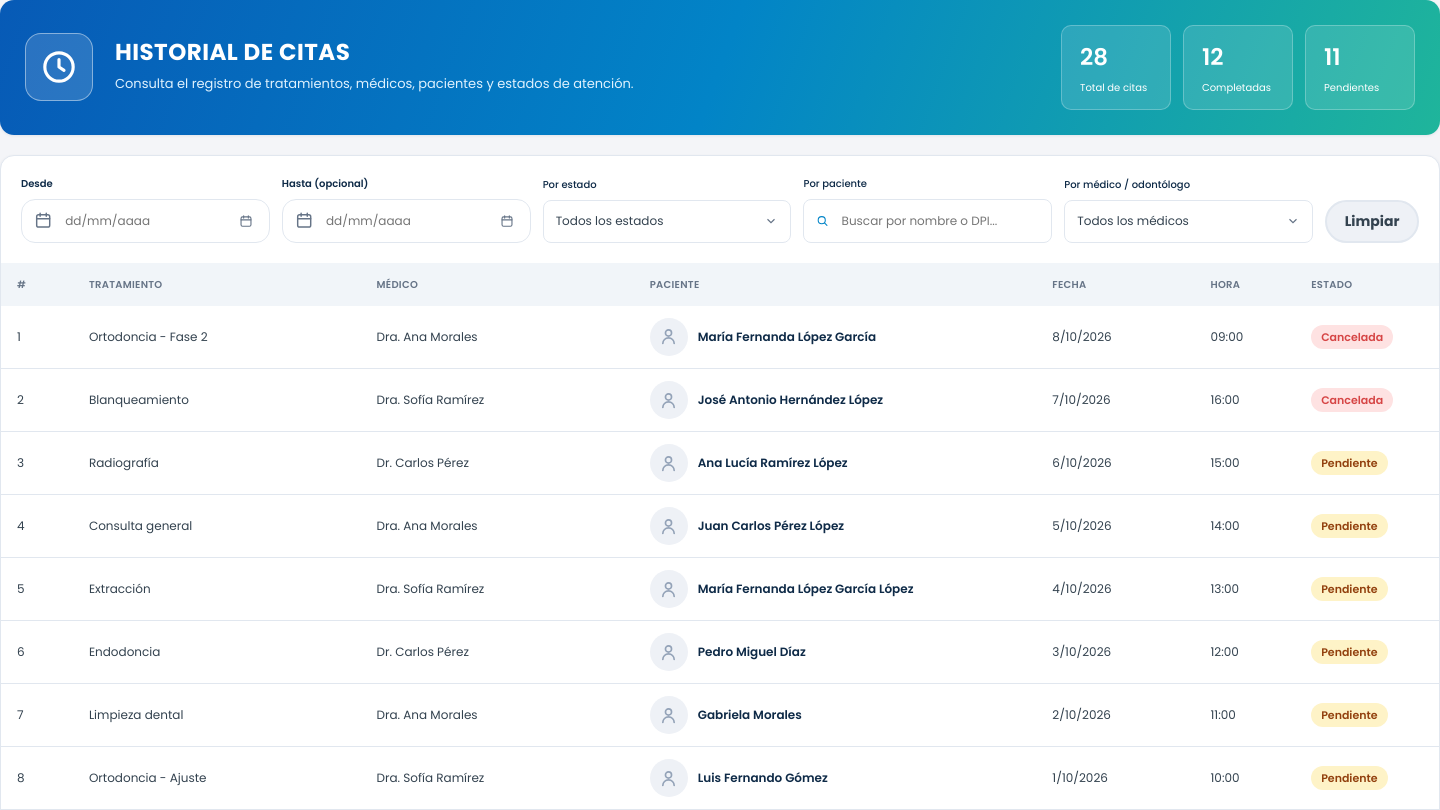
Scenario: agrega separadores al escribir o pegar en Desde sin cambiar el diseño
Type "31082026" into the field labelled "Desde".
click(110, 220); type("31082026")  # box [65, 200, 156, 242]
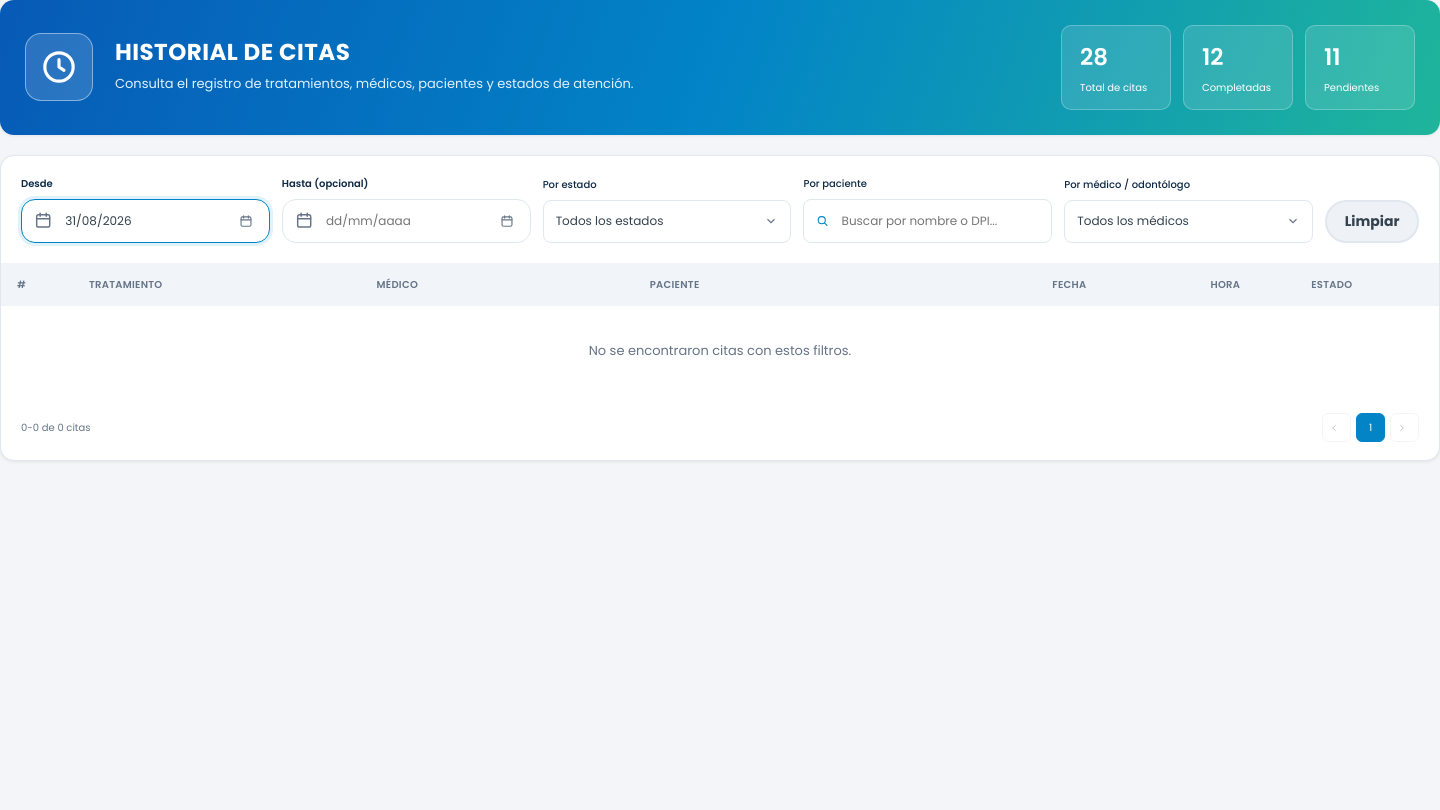
Now the field labelled "Desde" holds "31/08/2026", box [65, 200, 156, 242]
Press Backspace
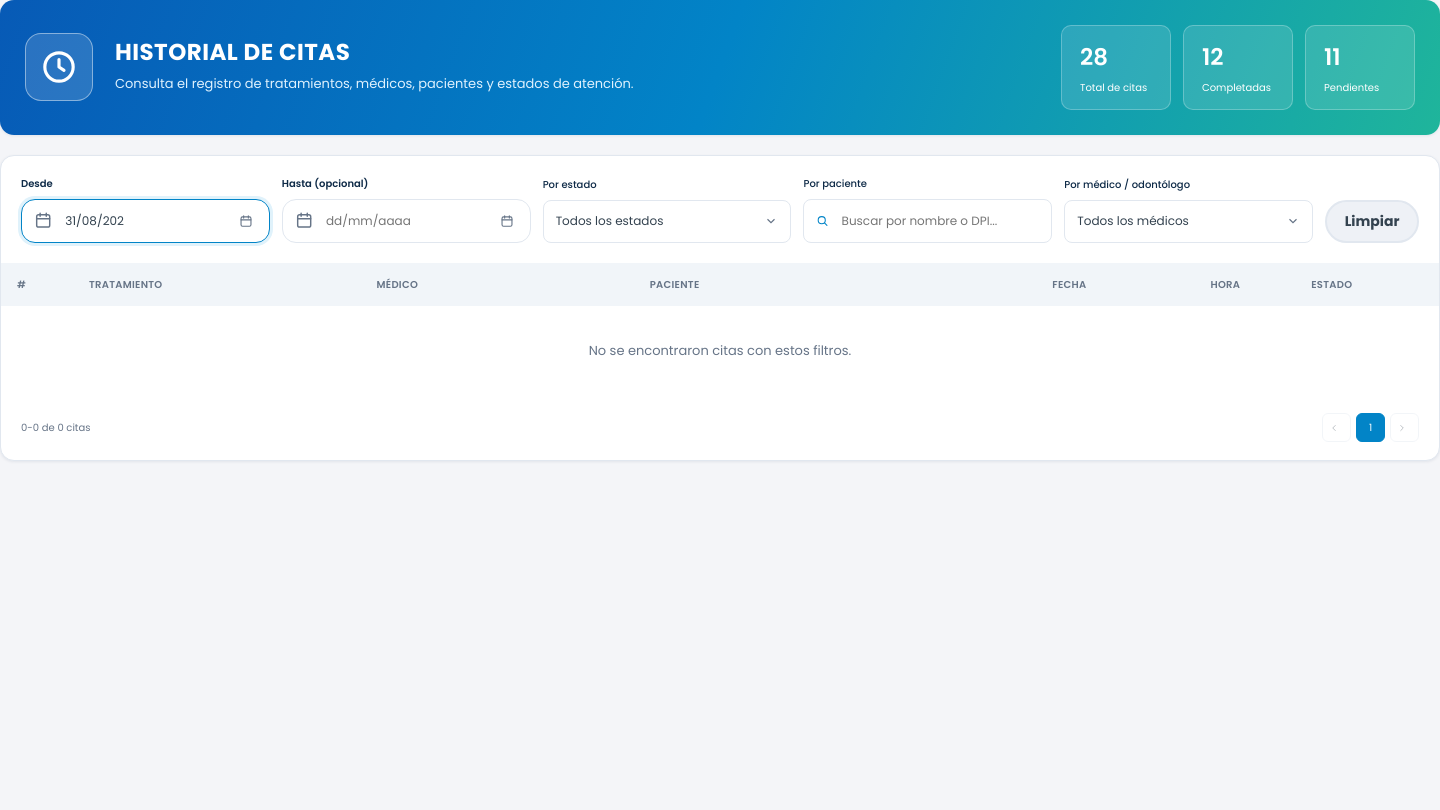
Now the field labelled "Desde" holds "31/08/202", box [65, 200, 156, 242]
Type keys "6"
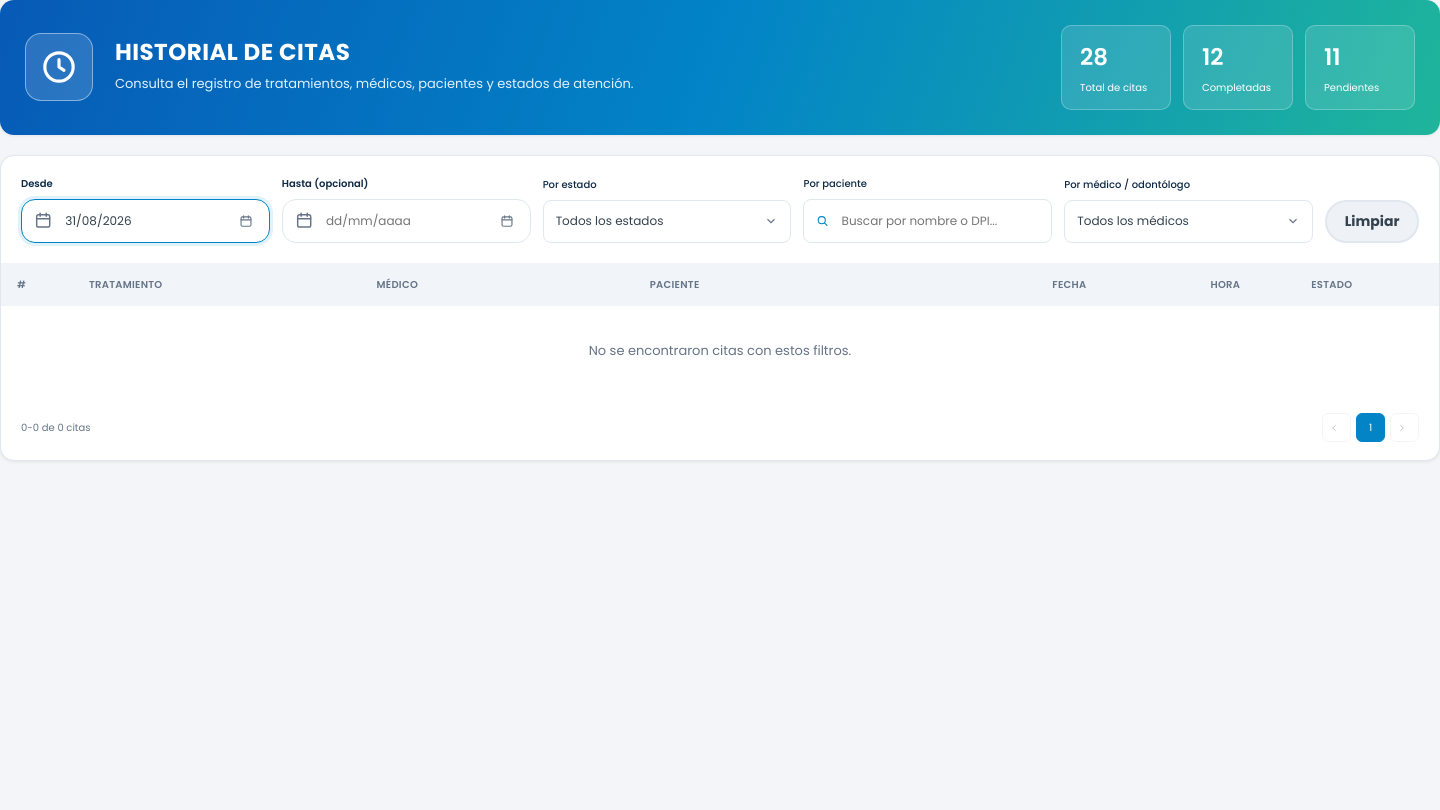
Now the field labelled "Desde" holds "31/08/2026"
Clear the field labelled "Desde" at [110, 220], box [65, 200, 156, 242]
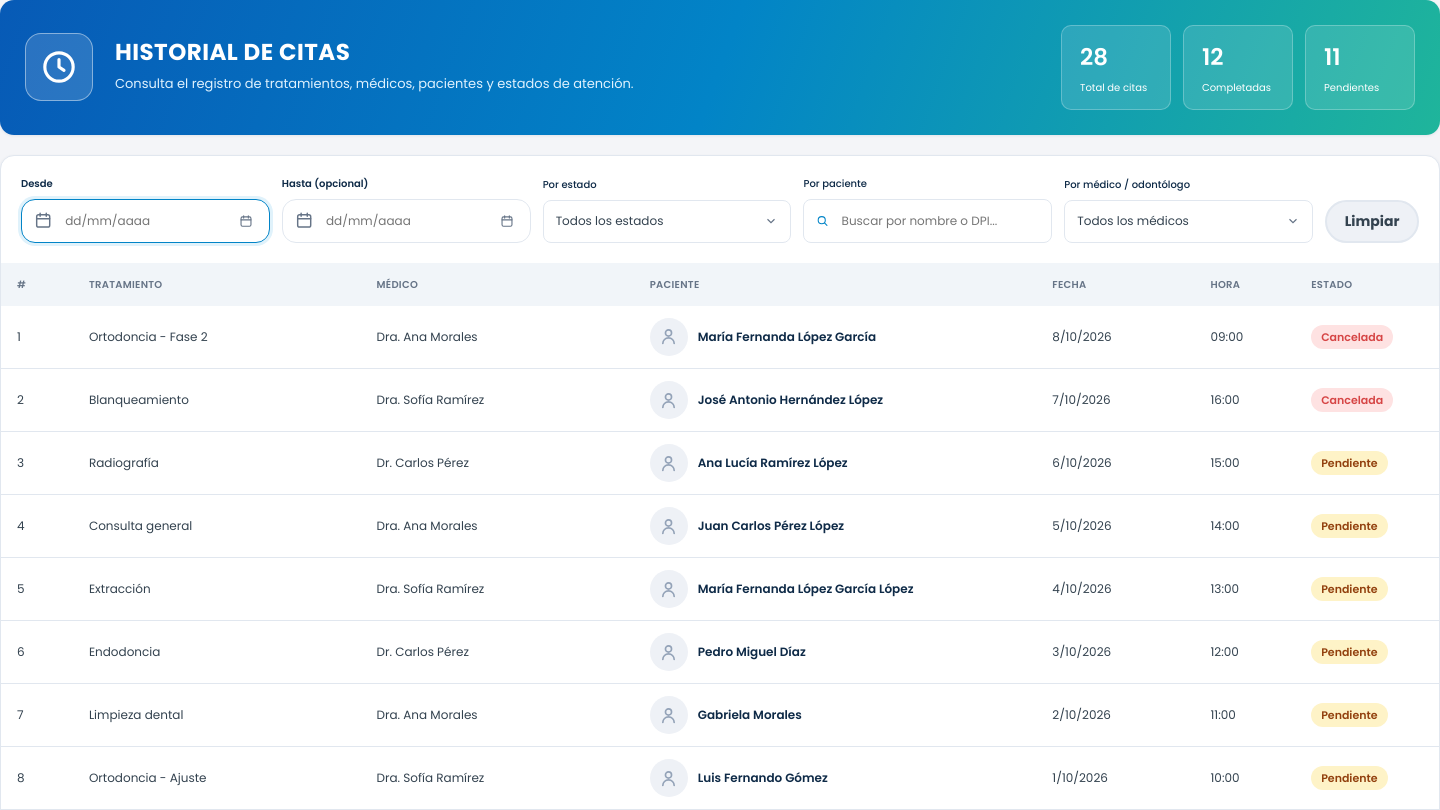
Type keys "12082026"
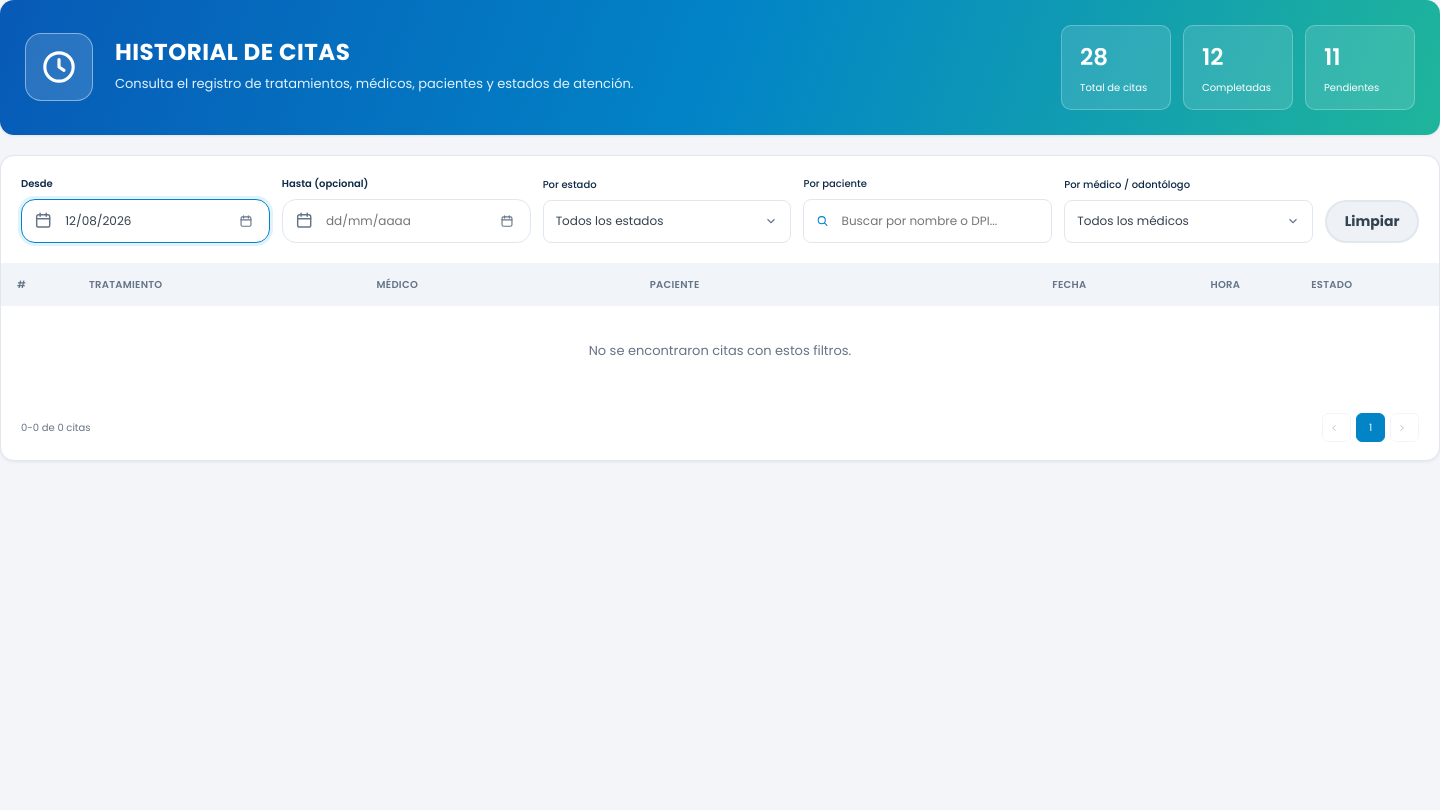
Now the field labelled "Desde" holds "12/08/2026"
Replace the text in the field labelled "Desde" with "1545444654" at [110, 220], box [65, 200, 156, 242]
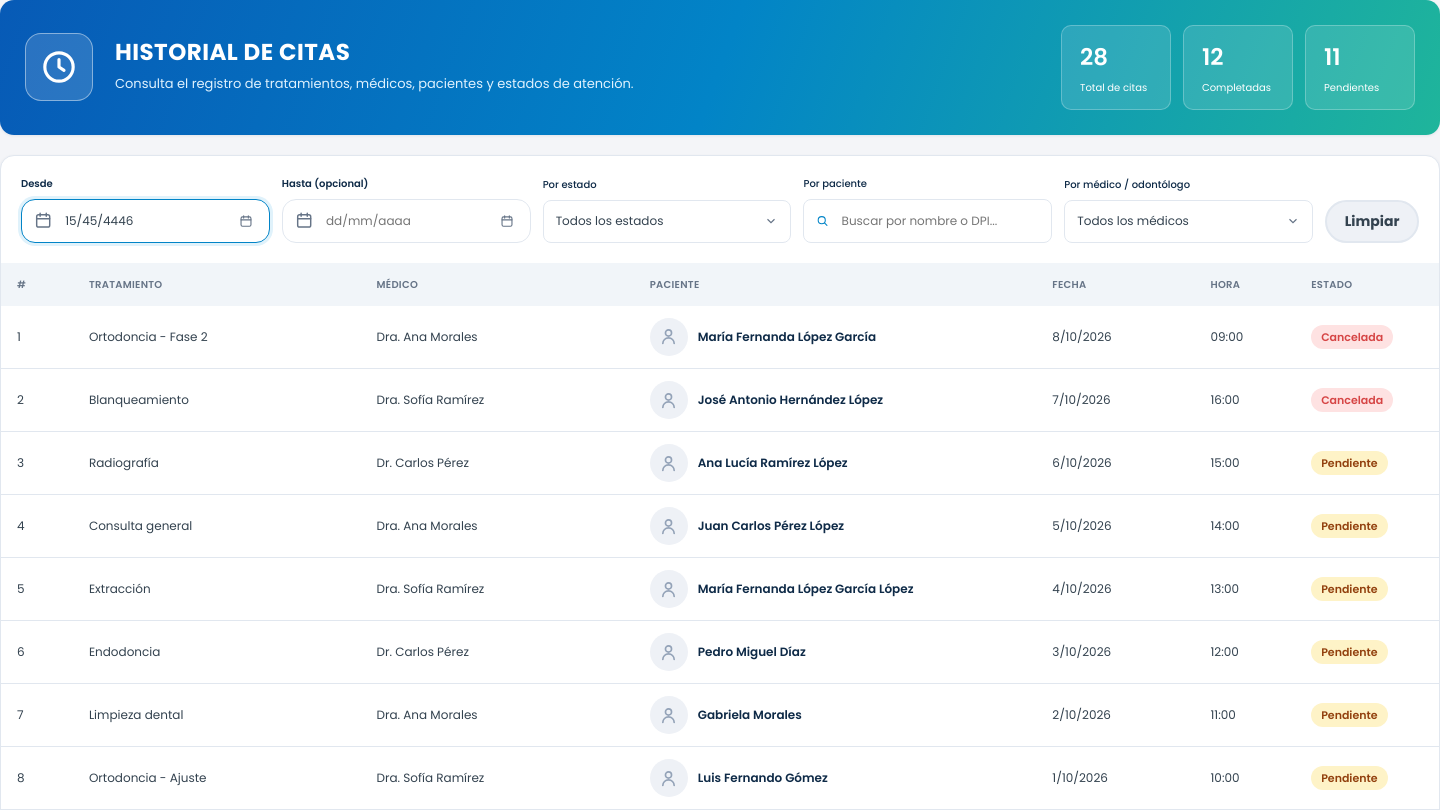
Now the field labelled "Desde" holds "15/45/4446", box [65, 200, 156, 242]
